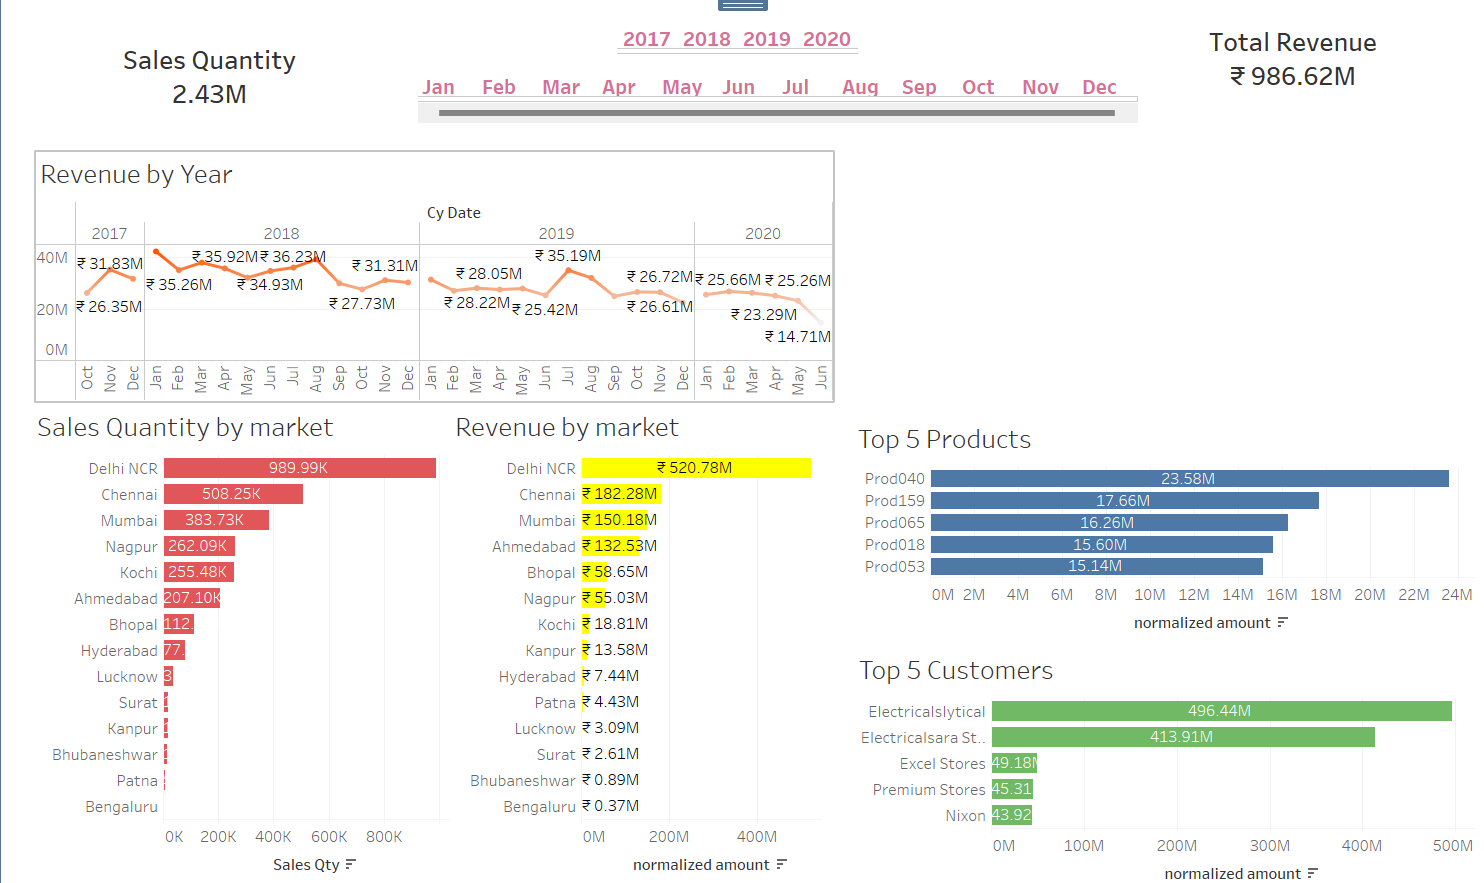

This screenshot's page, from the dashboard's own definition file:
{"tool":"tableau","page":{"name":"Dashboard 1","canvas":[1500,900],"ordinal":0},"visuals":[{"type":"worksheet","title":"Year","mark":"Automatic","cols":["cy_date"],"box":[624,36,264,34]},{"type":"worksheet","title":"Month","mark":"Automatic","cols":["cy_date"],"box":[425,84,720,50]},{"type":"worksheet","title":"Revenue by Year","mark":"Automatic","rows":["Calculation_788974370706759680"],"cols":["cy_date","cy_date"],"box":[349,160,1143,249]},{"type":"worksheet","title":"Quantity","mark":"Automatic","box":[99,177,205,79]},{"type":"worksheet","title":"Revenue","mark":"Automatic","box":[102,292,234,97]},{"type":"worksheet","title":"Sales Quantity by market","mark":"Automatic","rows":["markets_name"],"cols":["sales_qty"],"box":[40,413,417,486]},{"type":"worksheet","title":"Revenue by market","mark":"Automatic","rows":["markets_name"],"cols":["Calculation_788974370706759680"],"box":[458,413,371,487]},{"type":"worksheet","title":"Top 5 Products","mark":"Automatic","rows":["product_code (products)"],"cols":["Calculation_788974370706759680"],"box":[860,431,621,224]},{"type":"worksheet","title":"Top 5 Customers","mark":"Automatic","rows":["custmer_name"],"cols":["Calculation_788974370706759680"],"box":[862,656,620,248]}]}

Visuals, with their boxes in screenshot pixels (x1, y1, x2, y2), scaled from the page's 1500x900 canvas onto the 1484x883 screenshot:
"Year" worksheet: Rect(617, 35, 879, 69)
"Month" worksheet: Rect(420, 82, 1133, 131)
"Revenue by Year" worksheet: Rect(345, 157, 1476, 401)
"Quantity" worksheet: Rect(98, 174, 301, 251)
"Revenue" worksheet: Rect(101, 286, 332, 382)
"Sales Quantity by market" worksheet: Rect(40, 405, 452, 882)
"Revenue by market" worksheet: Rect(453, 405, 820, 882)
"Top 5 Products" worksheet: Rect(851, 423, 1465, 643)
"Top 5 Customers" worksheet: Rect(853, 644, 1466, 882)
